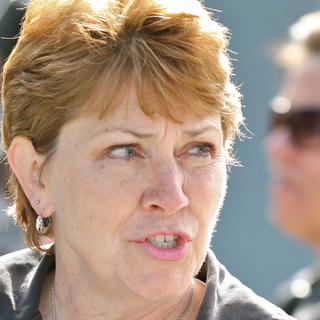eye: (98, 140, 148, 164), (176, 139, 219, 163)
